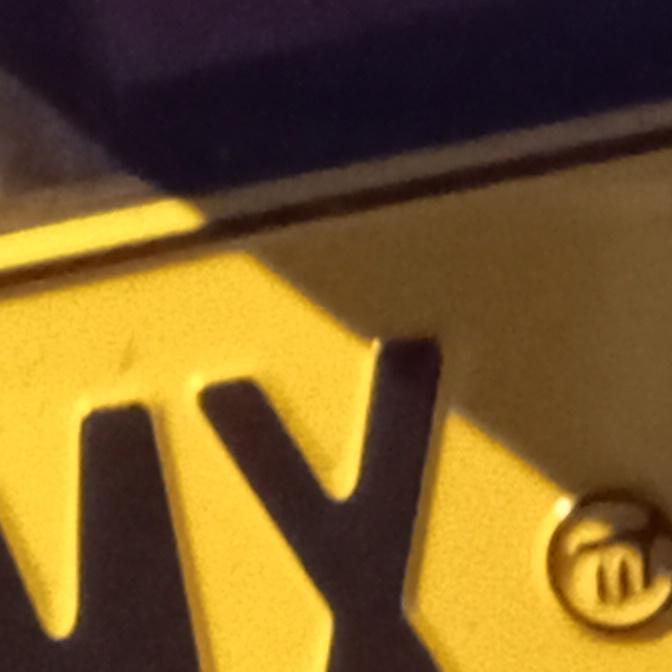plates: (0, 92, 672, 672)
